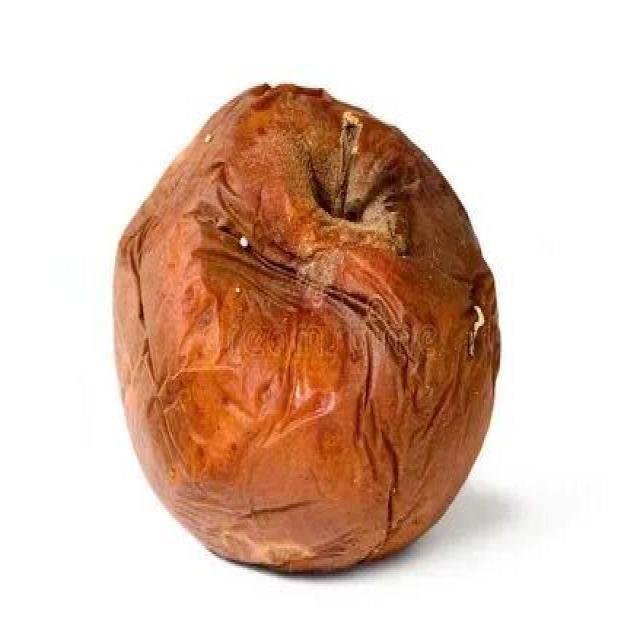Rotten: (99, 92, 498, 583)
